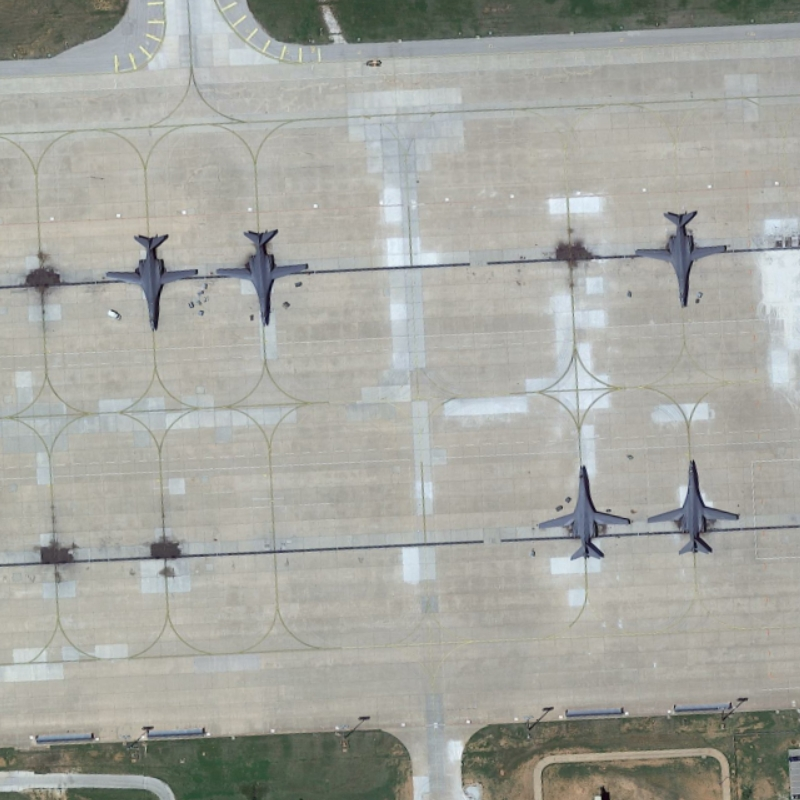A10: (103, 217, 207, 339), (623, 200, 731, 311), (644, 448, 745, 562), (535, 455, 634, 570), (211, 221, 314, 323)
